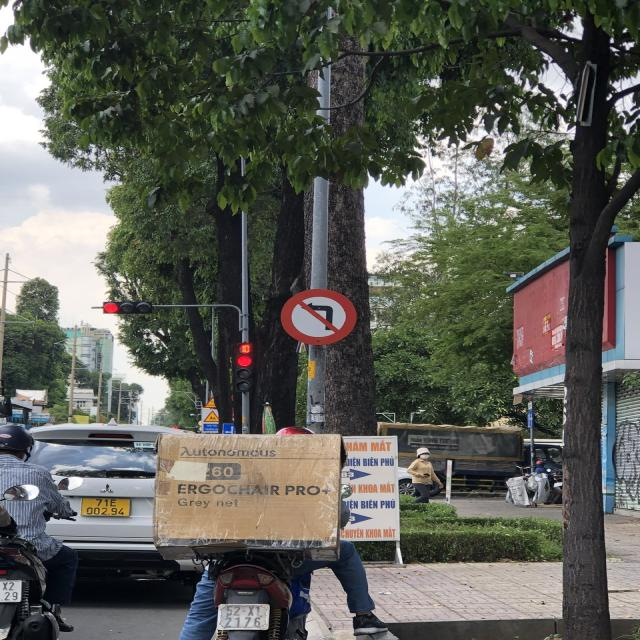Bien bao cam re trai: (278, 280, 364, 346)
